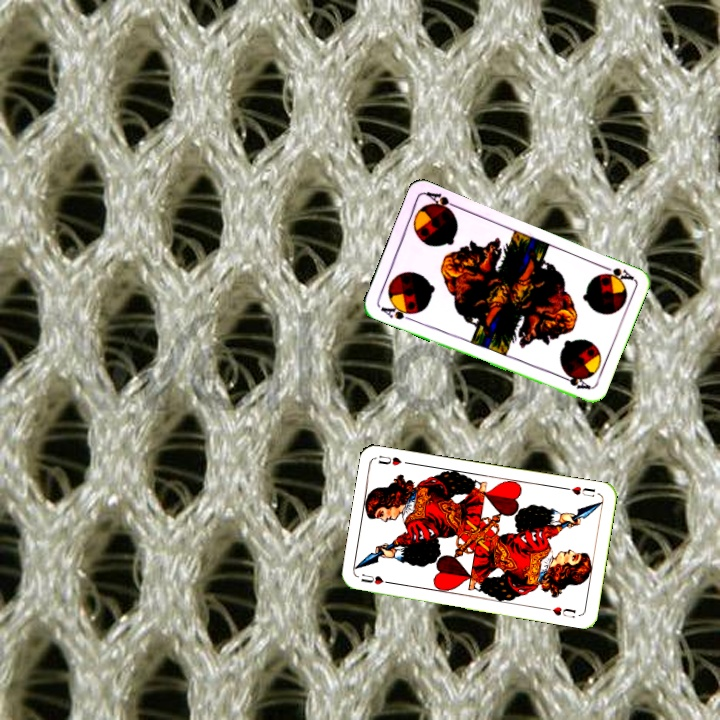HU: (357, 570, 396, 587), (561, 482, 598, 499)
SA: (376, 300, 417, 324), (596, 261, 636, 285)
